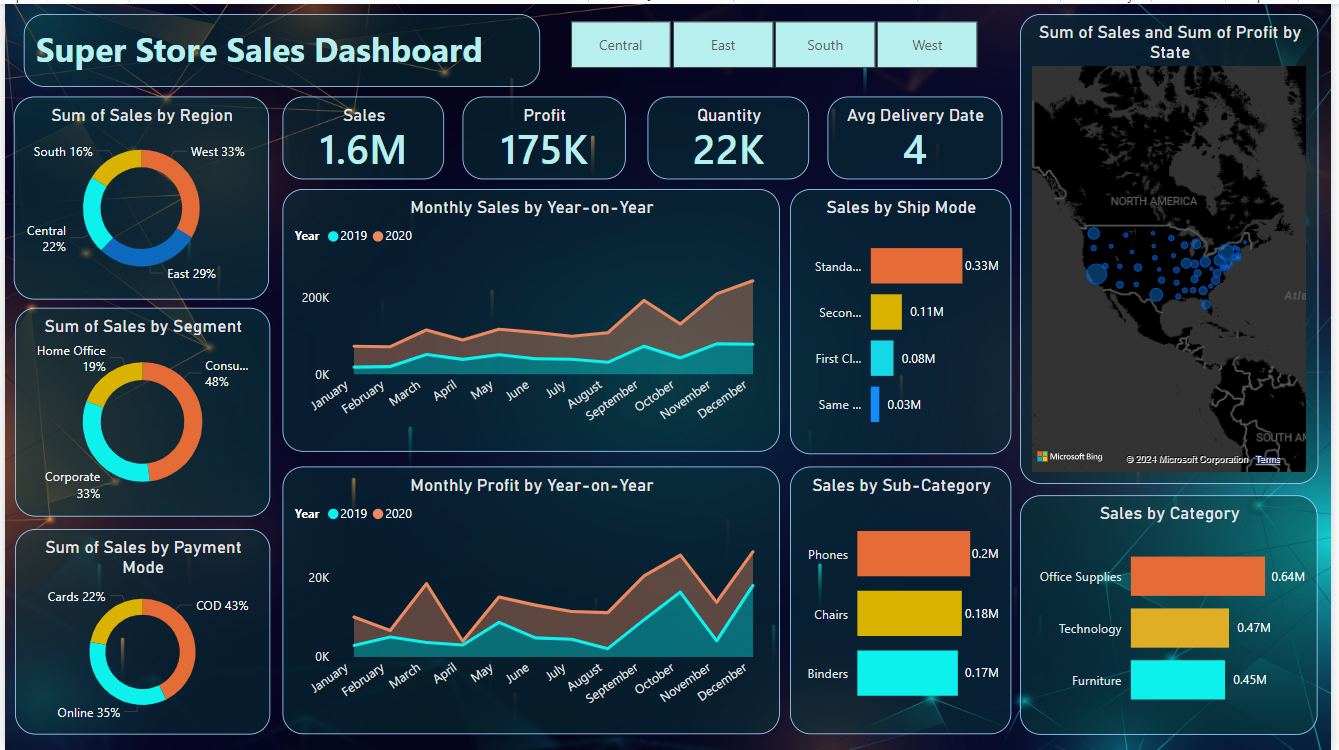

This screenshot's page, from the dashboard's own definition file:
{"tool":"powerbi","page":{"name":"Page 1","canvas":[1280,720],"ordinal":0},"visuals":[{"type":"clusteredBarChart","title":"Sales by Category","fields":{"Y":["Sum(SuperStore_Sales_Dataset.Sales)"],"Category":["SuperStore_Sales_Dataset.Category"]},"box":[980,473.8,287.5,231.2],"z":0},{"type":"clusteredBarChart","title":"Sales by Sub-Category","fields":{"Y":["Sum(SuperStore_Sales_Dataset.Sales)"],"Category":["SuperStore_Sales_Dataset.Sub-Category"]},"box":[757.5,446.2,213.8,258.8],"z":1000},{"type":"clusteredBarChart","title":"Sales by Ship Mode","fields":{"Y":["Sum(SuperStore_Sales_Dataset.Sales)"],"Category":["SuperStore_Sales_Dataset.Ship Mode"]},"box":[757.5,178.8,213.8,256.2],"z":2000},{"type":"stackedAreaChart","title":"Monthly Sales by Year-on-Year","fields":{"Category":["SuperStore_Sales_Dataset.Order Date.Variation.Date Hierarchy.Month"],"Y":["Sum(SuperStore_Sales_Dataset.Sales)"],"Series":["SuperStore_Sales_Dataset.Order Date.Variation.Date Hierarchy.Year"]},"box":[267.5,178.8,480,253.8],"z":3000},{"type":"stackedAreaChart","title":"Monthly Profit by Year-on-Year","fields":{"Category":["SuperStore_Sales_Dataset.Order Date.Variation.Date Hierarchy.Month","SuperStore_Sales_Dataset.Order Date.Variation.Date Hierarchy.Day"],"Series":["SuperStore_Sales_Dataset.Order Date.Variation.Date Hierarchy.Year"],"Y":["Sum(SuperStore_Sales_Dataset.Profit)"]},"box":[267.5,446.2,480,258.8],"z":4000},{"type":"map","fields":{"Category":["SuperStore_Sales_Dataset.State"],"Size":["Sum(SuperStore_Sales_Dataset.Sales)"]},"box":[979.6,9.7,288.3,453.6],"z":5000},{"type":"donutChart","fields":{"Category":["SuperStore_Sales_Dataset.Segment"],"Y":["Sum(SuperStore_Sales_Dataset.Sales)"]},"box":[10,293.8,246.2,201.2],"z":6000},{"type":"donutChart","fields":{"Y":["Sum(SuperStore_Sales_Dataset.Sales)"],"Category":["SuperStore_Sales_Dataset.Payment Mode"]},"box":[10,506.2,246.2,198.8],"z":7000},{"type":"slicer","fields":{"Values":["SuperStore_Sales_Dataset.Region"]},"box":[520,10,442.5,58.8],"z":8000},{"type":"textbox","box":[17.5,10,498.8,70],"z":9000},{"type":"card","title":"Sales","fields":{"Values":["Sum(SuperStore_Sales_Dataset.Sales)"]},"box":[267.5,88.8,156.2,80],"z":10000},{"type":"card","title":"Profit","fields":{"Values":["Sum(SuperStore_Sales_Dataset.Profit)"]},"box":[441.2,88.8,157.5,80],"z":11000},{"type":"card","title":"Quantity","fields":{"Values":["Sum(SuperStore_Sales_Dataset.Quantity)"]},"box":[620,88.8,156.2,80],"z":12000},{"type":"card","title":"Avg Delivery Date","fields":{"Values":["Avg(SuperStore_Sales_Dataset.AVGDeliverDate)"]},"box":[793.8,88.8,168.8,80],"z":13000},{"type":"donutChart","fields":{"Y":["Sum(SuperStore_Sales_Dataset.Sales)"],"Category":["SuperStore_Sales_Dataset.Region"]},"box":[8.8,88.8,246.2,196.2],"z":14000}]}

Visuals, with their boxes in screenshot pixels (x1, y1, x2, y2), scaled from the page's 1280x720 canvas onto the 1339x750 screenshot:
"Sales by Category" clusteredBarChart: <region>1025, 494, 1326, 734</region>
"Sales by Sub-Category" clusteredBarChart: <region>792, 465, 1016, 734</region>
"Sales by Ship Mode" clusteredBarChart: <region>792, 186, 1016, 453</region>
"Monthly Sales by Year-on-Year" stackedAreaChart: <region>280, 186, 782, 451</region>
"Monthly Profit by Year-on-Year" stackedAreaChart: <region>280, 465, 782, 734</region>
map - SuperStore_Sales_Dataset.State x Sum(SuperStore_Sales_Dataset.Sales): <region>1025, 10, 1326, 483</region>
donutChart - SuperStore_Sales_Dataset.Segment x Sum(SuperStore_Sales_Dataset.Sales): <region>10, 306, 268, 516</region>
donutChart - Sum(SuperStore_Sales_Dataset.Sales) x SuperStore_Sales_Dataset.Payment Mode: <region>10, 527, 268, 734</region>
slicer - SuperStore_Sales_Dataset.Region: <region>544, 10, 1007, 72</region>
textbox: <region>18, 10, 540, 83</region>
"Sales" card: <region>280, 92, 443, 176</region>
"Profit" card: <region>462, 92, 626, 176</region>
"Quantity" card: <region>649, 92, 812, 176</region>
"Avg Delivery Date" card: <region>830, 92, 1007, 176</region>
donutChart - Sum(SuperStore_Sales_Dataset.Sales) x SuperStore_Sales_Dataset.Region: <region>9, 92, 267, 297</region>
